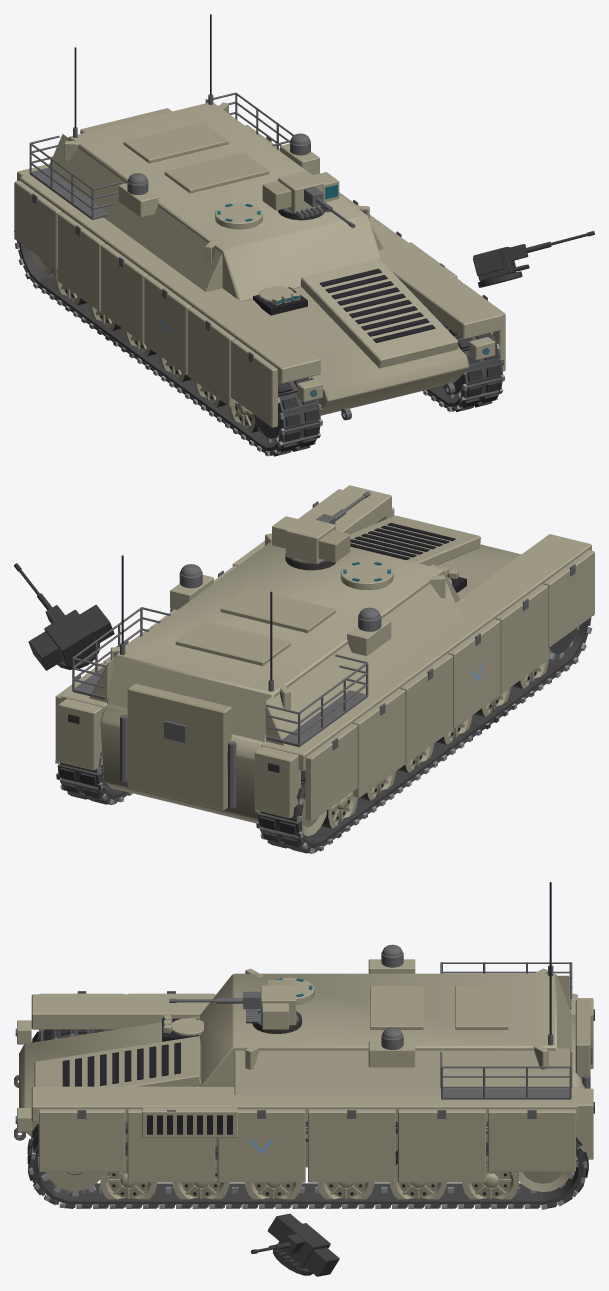
Rendered from heavyAPC__namer.glb.
The picture shows the model from 3 angles, top to bottom: view 1: azimuth 30°, elevation 25°; view 2: azimuth 150°, elevation 25°; view 3: azimuth 270°, elevation 25°; orthographic projection. The views are drawn at different scales.
Visible parts, largest first — view 1: Hull_Mesh, Track_L_Mesh, Wreck, Track_R_Mesh, Turret_Mesh; view 2: Hull_Mesh, Wreck, Track_L_Mesh, Turret_Mesh, Track_R_Mesh, Wheel_L0_Mesh; view 3: Hull_Mesh, Track_R_Mesh, Wreck, Turret_Mesh, Wheel_R0_Mesh, Wheel_R5_Mesh, Sprocket_R_Mesh, Wheel_R4_Mesh, Wheel_R1_Mesh, Wheel_R2_Mesh, Wheel_R3_Mesh, Idler_R_Mesh (+2 smaller).
Part boxes in pixels (<box>): Hull_Mesh: <box>14,14,505,427</box>; Track_L_Mesh: <box>15,241,322,456</box>; Wreck: <box>14,209,594,454</box>; Track_R_Mesh: <box>423,322,505,411</box>; Turret_Mesh: <box>262,171,339,218</box>; Hull_Mesh: <box>55,485,594,823</box>; Wreck: <box>14,554,593,852</box>; Track_L_Mesh: <box>255,617,592,853</box>; Turret_Mesh: <box>272,516,350,564</box>; Track_R_Mesh: <box>55,743,132,804</box>; Wheel_L0_Mesh: <box>321,791,357,828</box>; Hull_Mesh: <box>14,882,594,1182</box>; Track_R_Mesh: <box>27,1122,588,1209</box>; Wreck: <box>27,1010,587,1276</box>; Turret_Mesh: <box>246,980,298,1029</box>; Wheel_R0_Mesh: <box>462,1142,518,1207</box>; Wheel_R5_Mesh: <box>100,1142,156,1207</box>; Sprocket_R_Mesh: <box>37,1158,108,1196</box>; Wheel_R4_Mesh: <box>172,1146,229,1206</box>; Wheel_R1_Mesh: <box>390,1150,446,1206</box>; Wheel_R2_Mesh: <box>317,1182,374,1206</box>; Wheel_R3_Mesh: <box>245,1182,301,1207</box>; Idler_R_Mesh: <box>517,1172,571,1191</box>.
Size of what is drawn, in the model's own units: 6.94 by 3.55 by 7.86.
